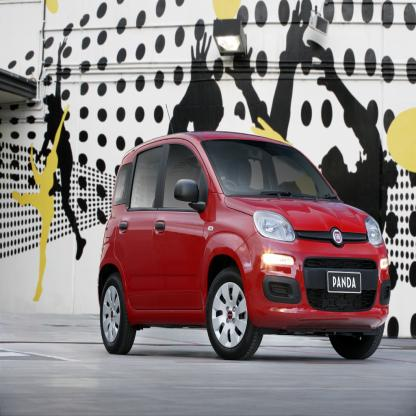Car: (98, 104, 393, 361)
